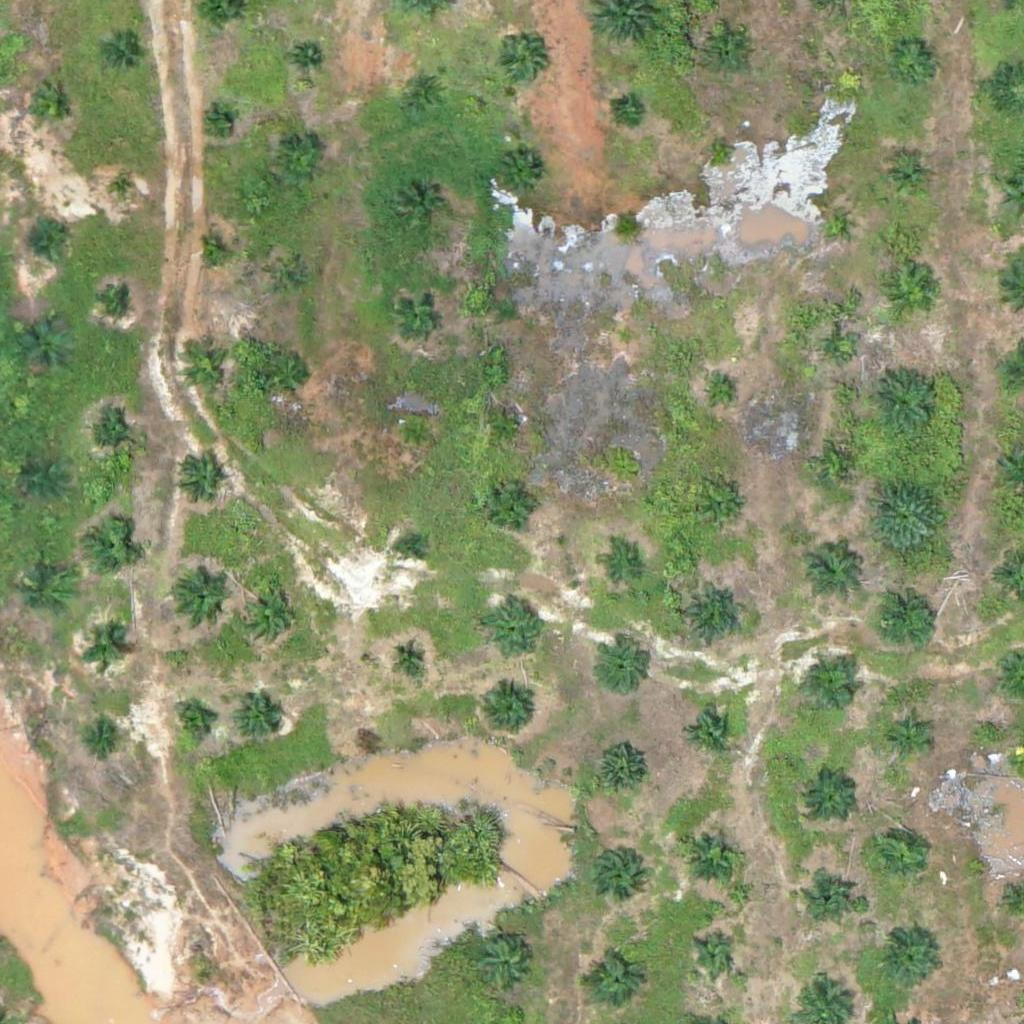Kelapa_Sawit: (865, 364, 940, 440), (869, 582, 944, 658), (869, 478, 944, 554), (798, 537, 861, 600), (683, 583, 746, 646), (237, 584, 300, 647), (874, 927, 936, 990), (477, 680, 539, 743), (681, 822, 743, 885), (481, 598, 543, 661), (171, 566, 233, 629), (267, 349, 317, 400), (586, 956, 636, 1007), (597, 642, 647, 693), (480, 941, 530, 992), (594, 743, 644, 794), (685, 707, 735, 758), (487, 479, 537, 530), (888, 36, 938, 87), (180, 343, 230, 394), (26, 82, 76, 133), (806, 868, 856, 918), (809, 662, 859, 712), (805, 772, 855, 822), (872, 828, 922, 878), (591, 846, 641, 896), (887, 270, 937, 320), (706, 30, 756, 80), (883, 153, 933, 203), (88, 414, 138, 464), (86, 523, 136, 573), (175, 456, 225, 506), (235, 692, 285, 742), (495, 36, 545, 86), (498, 150, 548, 200), (395, 289, 445, 339), (395, 182, 445, 232), (402, 68, 452, 118), (275, 138, 325, 188), (22, 322, 72, 372), (24, 573, 74, 623), (887, 718, 925, 756), (600, 548, 638, 586), (85, 628, 123, 666), (86, 719, 124, 757), (173, 702, 211, 740), (26, 223, 64, 261), (705, 491, 742, 529), (694, 935, 731, 973), (392, 639, 429, 677), (396, 415, 434, 452), (270, 260, 308, 297), (26, 461, 63, 499), (489, 409, 526, 447), (105, 39, 142, 76), (615, 99, 640, 125), (827, 455, 852, 481), (820, 210, 845, 235), (825, 338, 850, 363), (708, 381, 733, 406), (708, 137, 733, 162), (398, 536, 423, 561), (206, 109, 231, 134), (199, 239, 224, 264), (111, 178, 136, 203), (105, 290, 130, 315), (614, 326, 639, 351), (294, 45, 318, 70)
